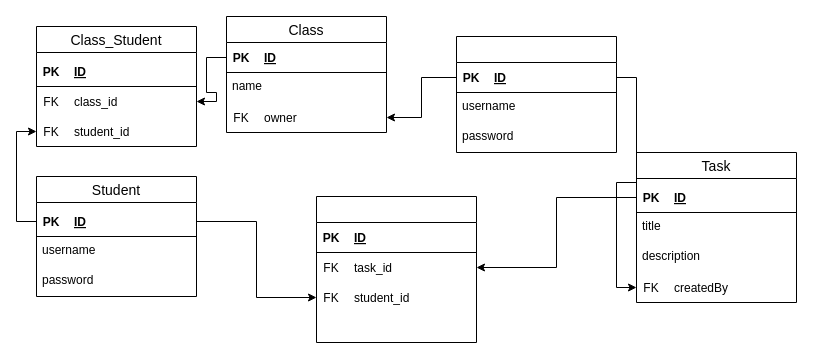
The diagram is 813 pixels wide and 359 high, and some of its shapes have lost their labels. Here are the shapes that lost their labels. From the top down, the box of each, then its label:
(456, 36, 616, 152): Teacher
(316, 196, 476, 342): Task_Student
